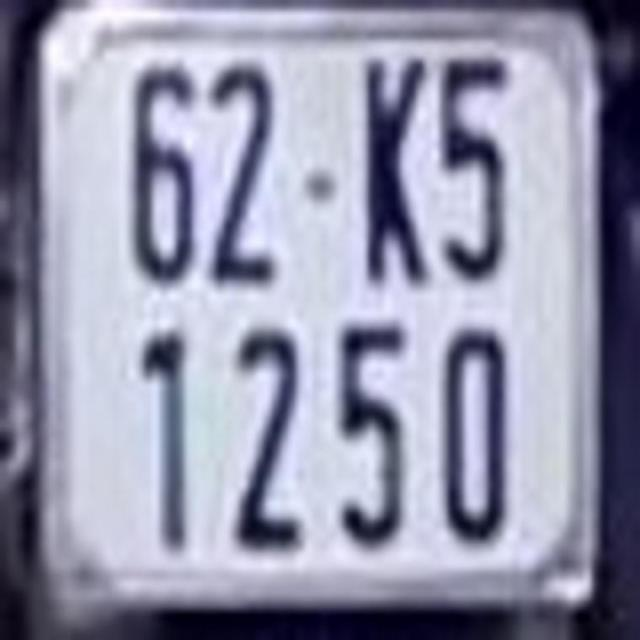0: (439, 331, 512, 543)
1: (138, 329, 186, 545)
2: (231, 326, 305, 548), (208, 65, 275, 282)
5: (442, 53, 509, 288), (336, 319, 403, 552)
6: (135, 57, 196, 282)
K: (362, 53, 426, 284)
